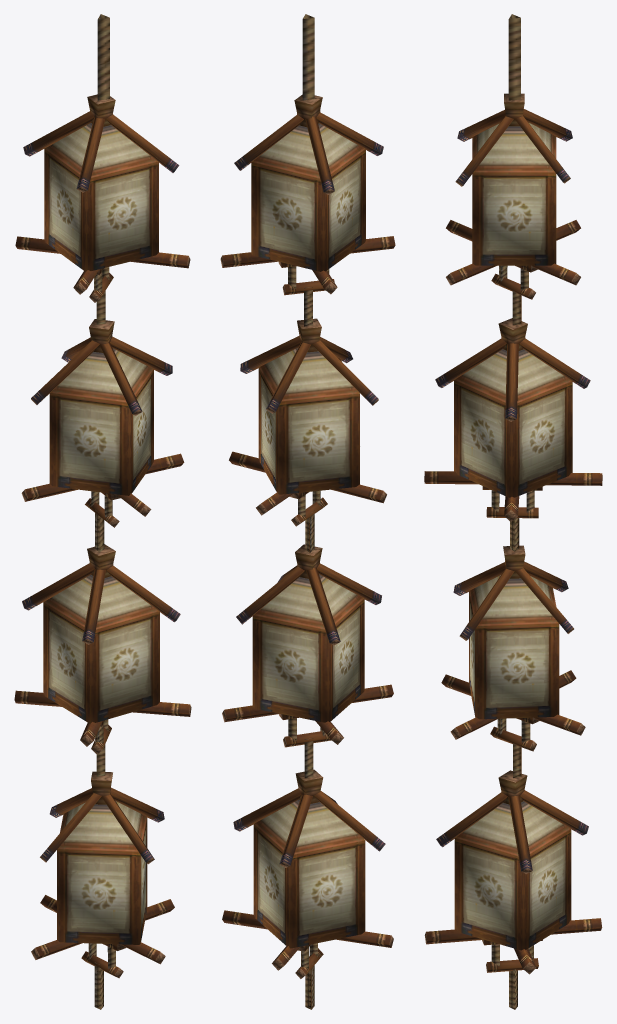
The model's file is deng_long_003.FBX.
The picture shows the model from 3 angles, left to right: view 1: azimuth 30°, elevation 25°; view 2: azimuth 150°, elevation 25°; view 3: azimuth 270°, elevation 25°; orthographic projection.
Parts seen in each view (by area): view 1: deng_long_003; view 2: deng_long_003; view 3: deng_long_003.
Boxes of the visible parts, <box> form: deng_long_003: <box>14,14,191,1009</box>; deng_long_003: <box>220,14,395,1009</box>; deng_long_003: <box>424,14,602,1009</box>.
Size of the model in its own units: 36.65 by 225 by 36.65.
1 material, 1 textured.
